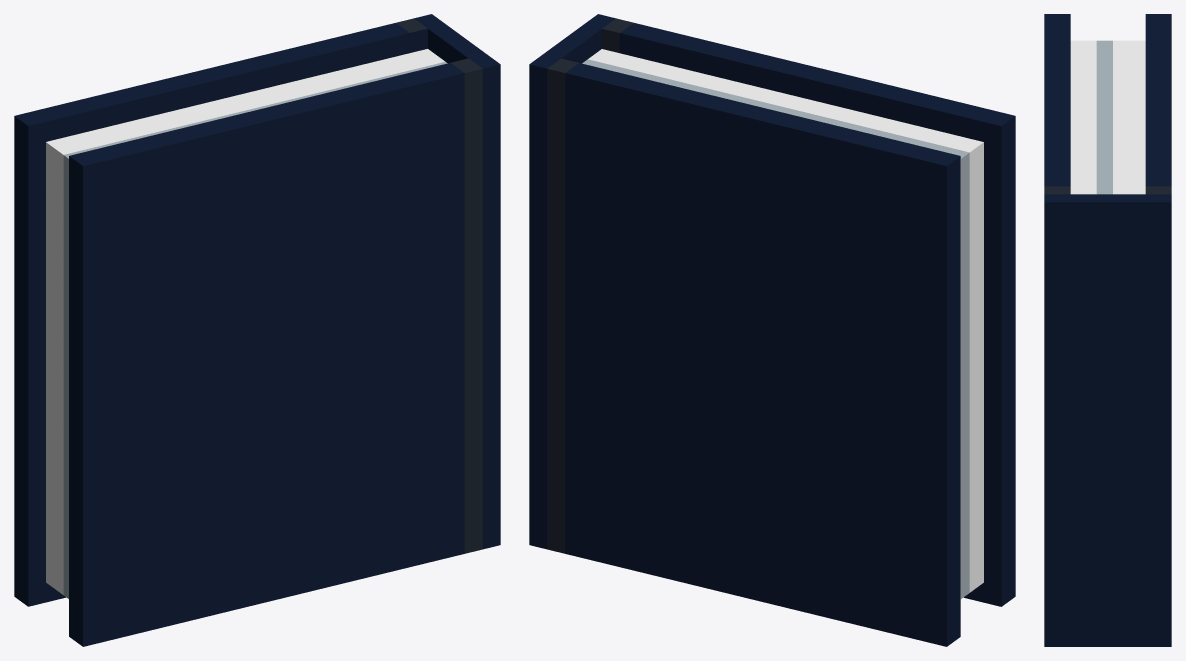
File: Book_Standing07.fbx
3 renders of one model, left to right at view 1: azimuth 30°, elevation 25°; view 2: azimuth 150°, elevation 25°; view 3: azimuth 270°, elevation 25°, orthographic. The views are drawn at different scales.
Parts seen in each view (by area): view 1: Cube.274; view 2: Cube.274; view 3: Cube.274.
Boxes of the visible parts, x1,y1,x2,y2 form: Cube.274: [14, 14, 500, 646]; Cube.274: [529, 14, 1015, 646]; Cube.274: [1044, 14, 1171, 646].
Bounding box in the file's own units: 30.63 × 33.7 × 8.74.
